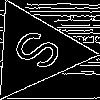S: (10, 26, 74, 80)
